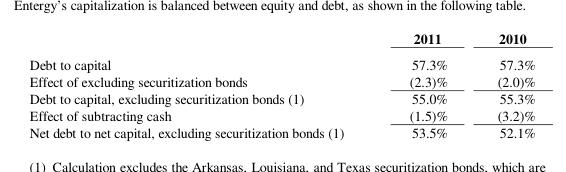table: (28, 28, 534, 141)
table column: (28, 28, 376, 141), (376, 28, 471, 141), (471, 28, 534, 141)
table column header: (28, 28, 534, 51)
table row: (28, 28, 534, 51), (28, 51, 534, 72), (28, 123, 534, 141), (28, 72, 534, 89), (28, 89, 534, 106), (28, 106, 534, 123)
